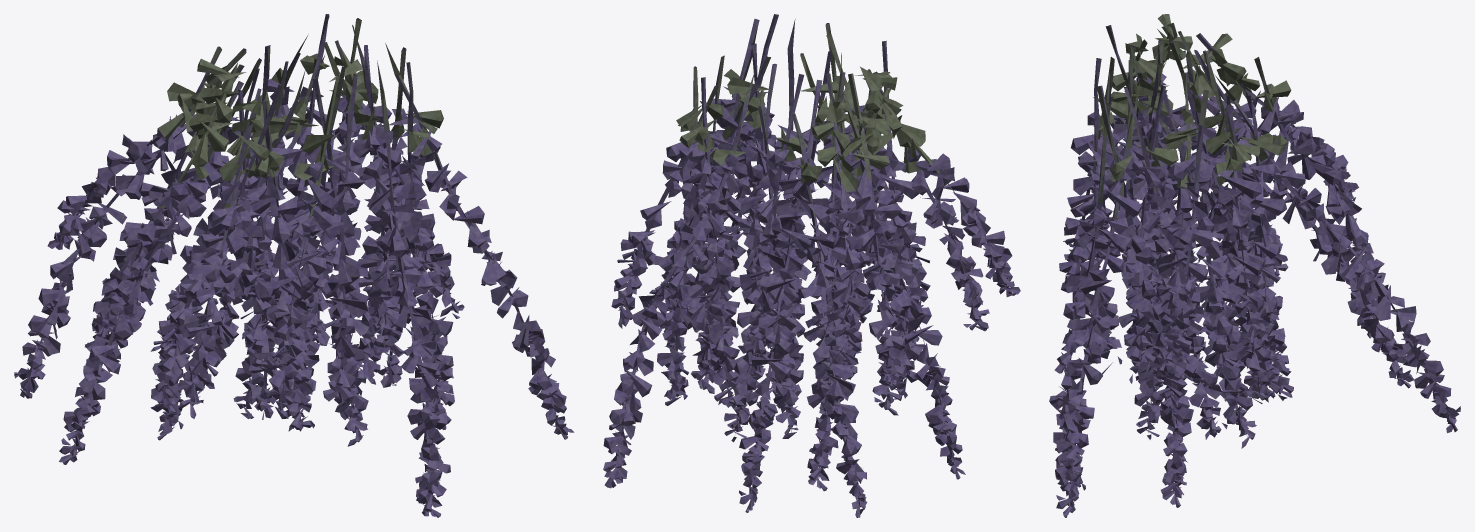
The model's file is tree_flower2.glb.
3 views of the same model, side by side, from view 1: azimuth 30°, elevation 25°; view 2: azimuth 150°, elevation 25°; view 3: azimuth 270°, elevation 25° (orthographic). The views are drawn at different scales.
Parts seen in each view (by area): view 1: ArtificialLavenderFloralArrangementsLeaf; view 2: ArtificialLavenderFloralArrangementsLeaf; view 3: ArtificialLavenderFloralArrangementsLeaf.
Boxes of the visible parts, bbox=[...] form: ArtificialLavenderFloralArrangementsLeaf: bbox=[14, 14, 574, 517]; ArtificialLavenderFloralArrangementsLeaf: bbox=[603, 14, 1020, 517]; ArtificialLavenderFloralArrangementsLeaf: bbox=[1049, 14, 1460, 517].
Bounding box in the file's own units: 16.36 × 16.31 × 14.46.
1 material, 1 textured.
